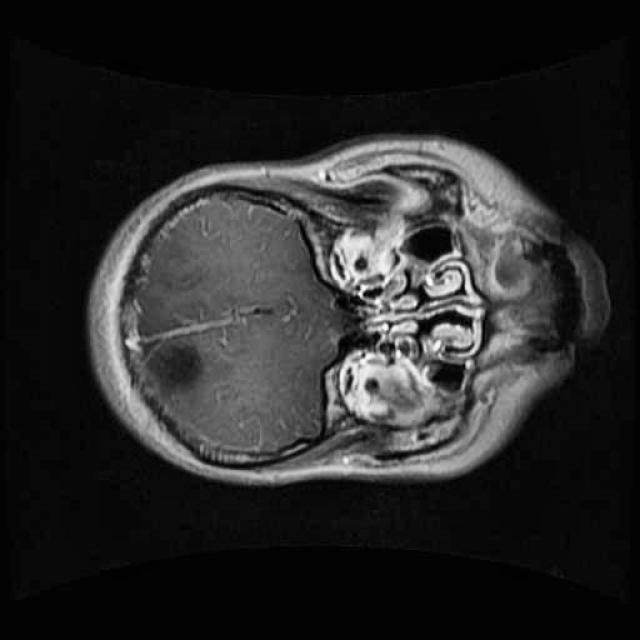Non-Tumor: (129, 324, 220, 408)
